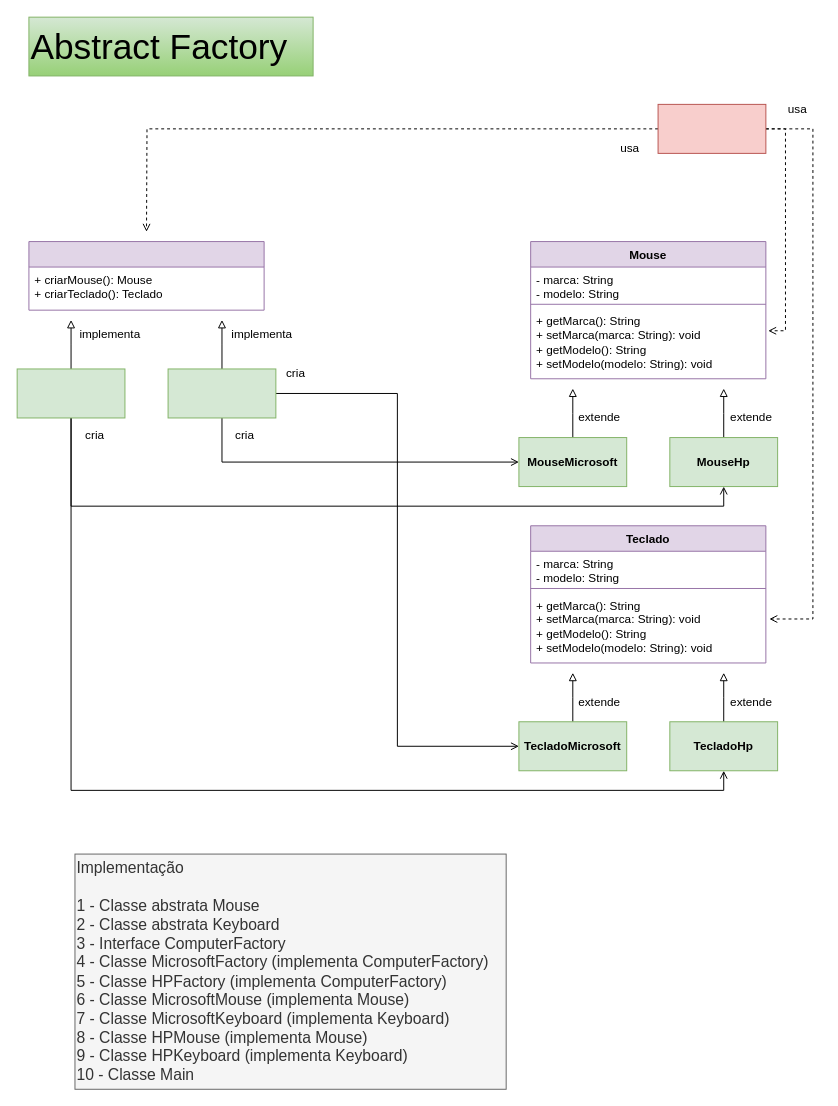
This 838x1106 diagram has some shape labels left out. The box of each missing label's shape, as (x1, y1, x2, y2) in pixels:
<<FabricaFactory>>: (28, 241, 264, 310)
Client (App.java): (657, 103, 766, 153)
FabricaHp: (16, 368, 125, 418)
FabricaMicrosoft: (167, 368, 276, 418)
